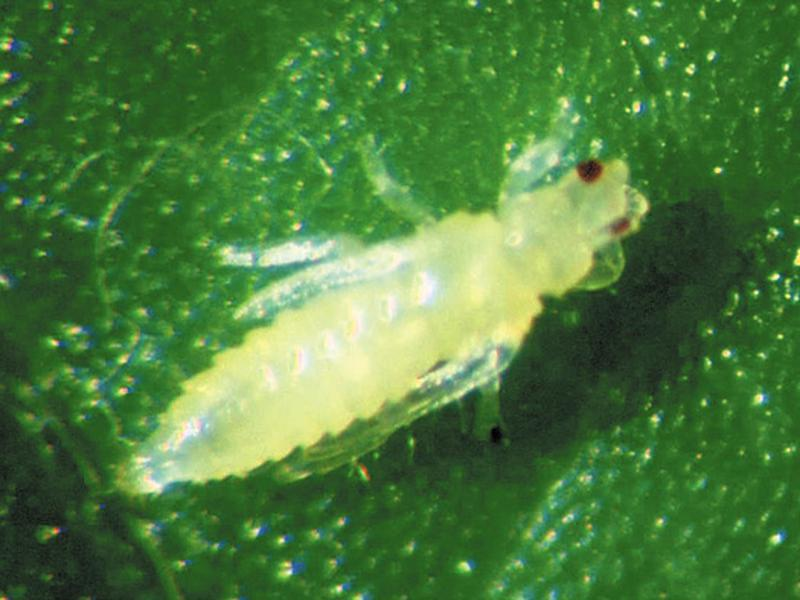Thrips: (103, 149, 653, 501)
